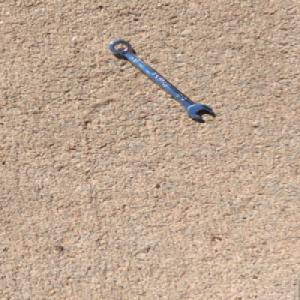Wrench: (106, 38, 215, 120)
